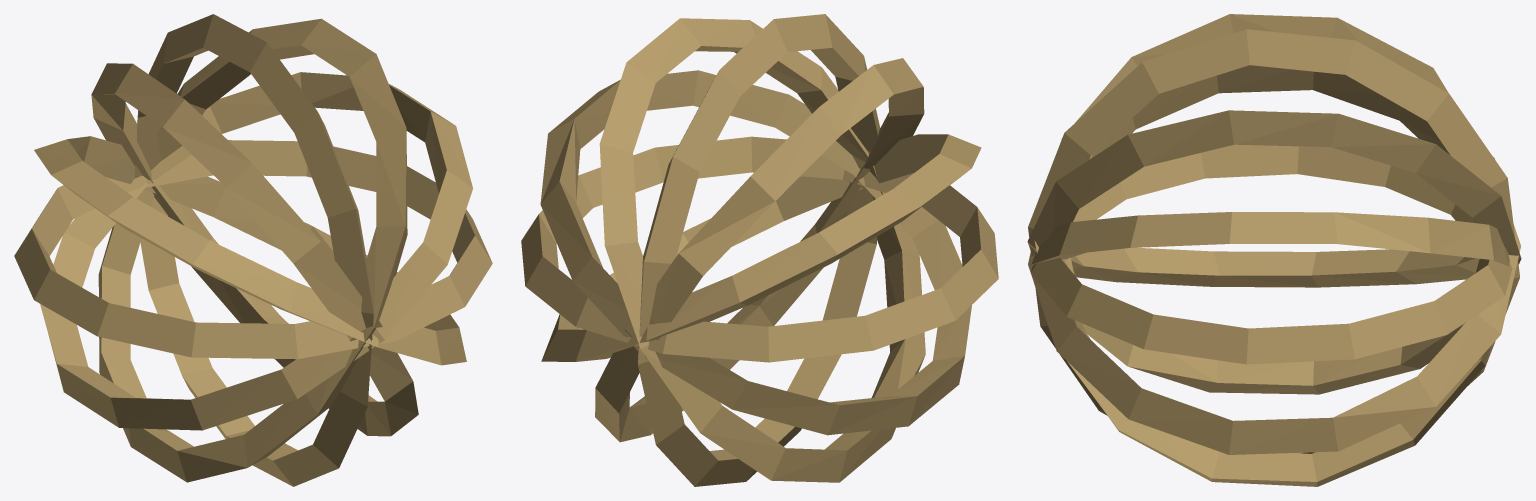
The model's file is GearNetCannon.obj.
3 views of the same model, side by side, from view 1: azimuth 30°, elevation 25°; view 2: azimuth 150°, elevation 25°; view 3: azimuth 270°, elevation 25° (orthographic). The views are drawn at different scales.
Visible parts, largest first — view 1: GearNetCannon; view 2: GearNetCannon; view 3: GearNetCannon.
Part boxes in pixels (x1,y1,x2,y2): GearNetCannon: [14, 14, 492, 486]; GearNetCannon: [521, 14, 998, 486]; GearNetCannon: [1027, 14, 1521, 486].
Size of the model in its own units: 0.279 by 0.2822 by 0.2832.
